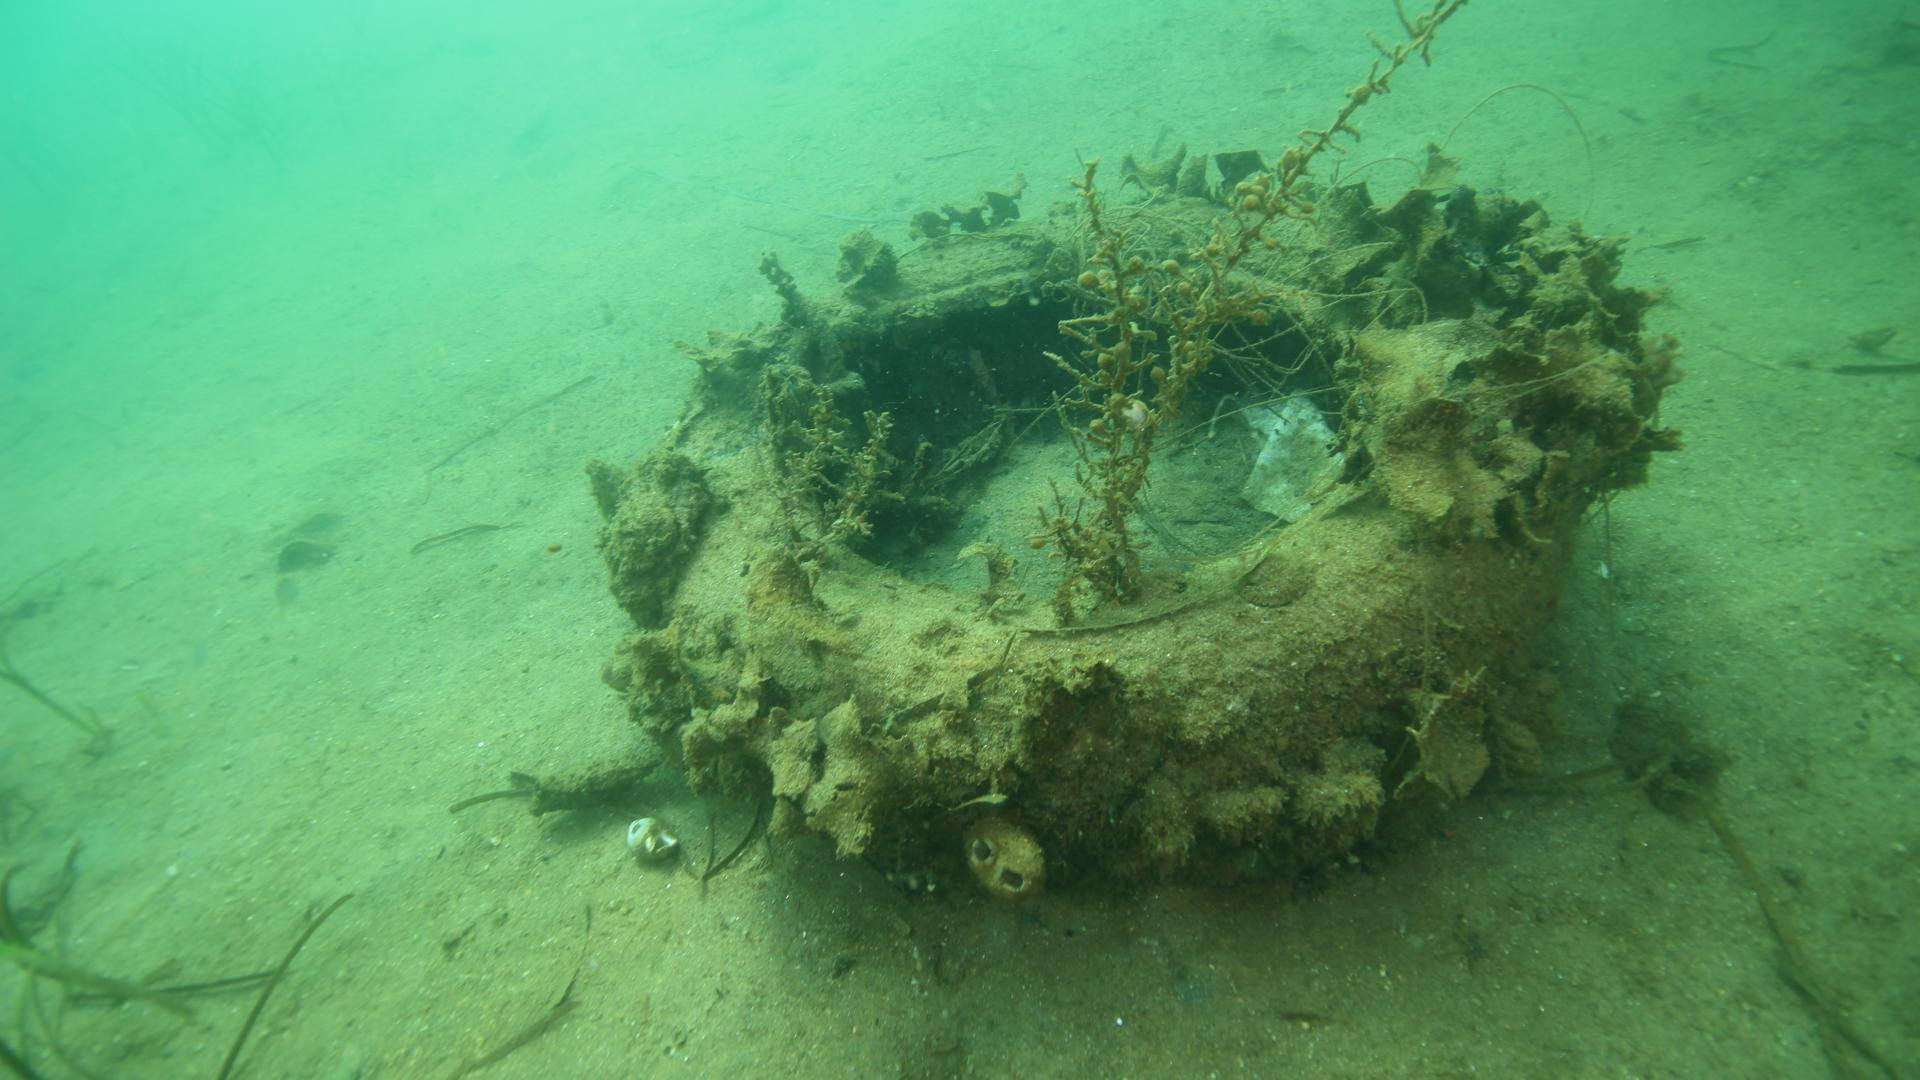tire: (645, 202, 1571, 897)
